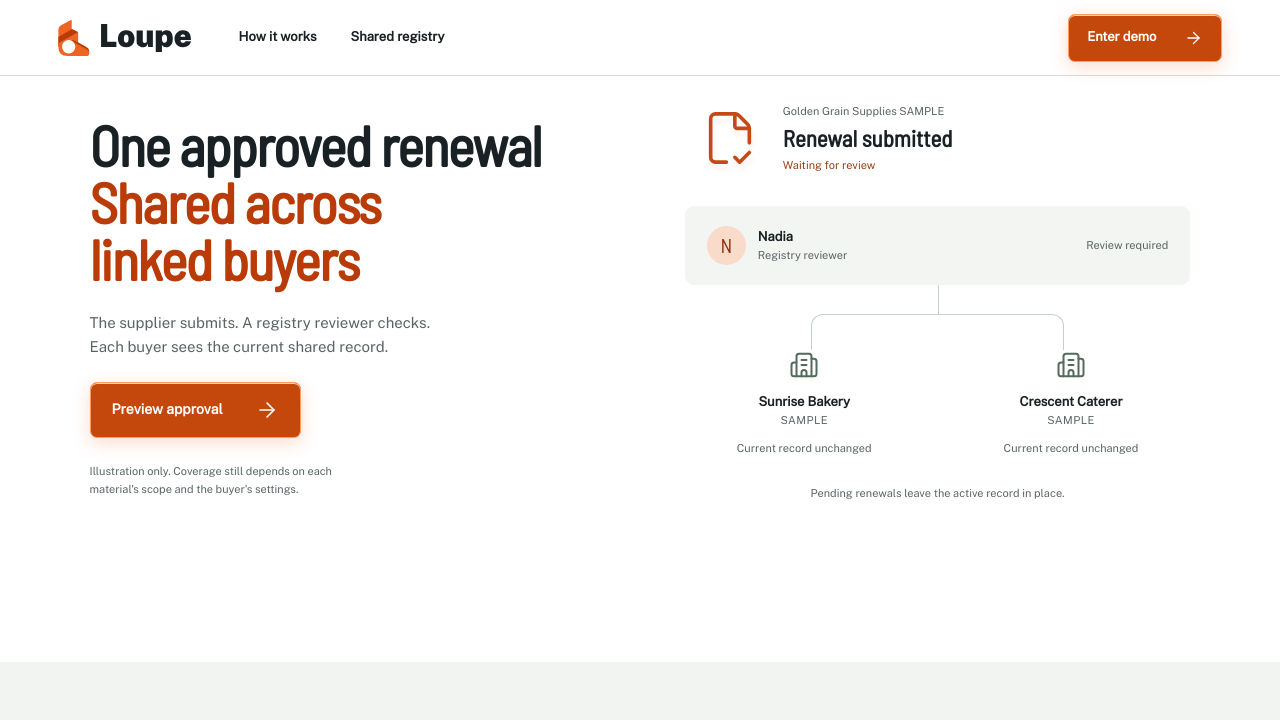
Test case: keeps registry approval illustrative and links entry to the actual workspace picker
The width and height of the screenshot is (1280, 720).
(page scrolled)
What coordinates should you click on to do the following:
click the button "Preview approval"
I would click on:
 (195, 410)
Its box is [90,382,301,438].
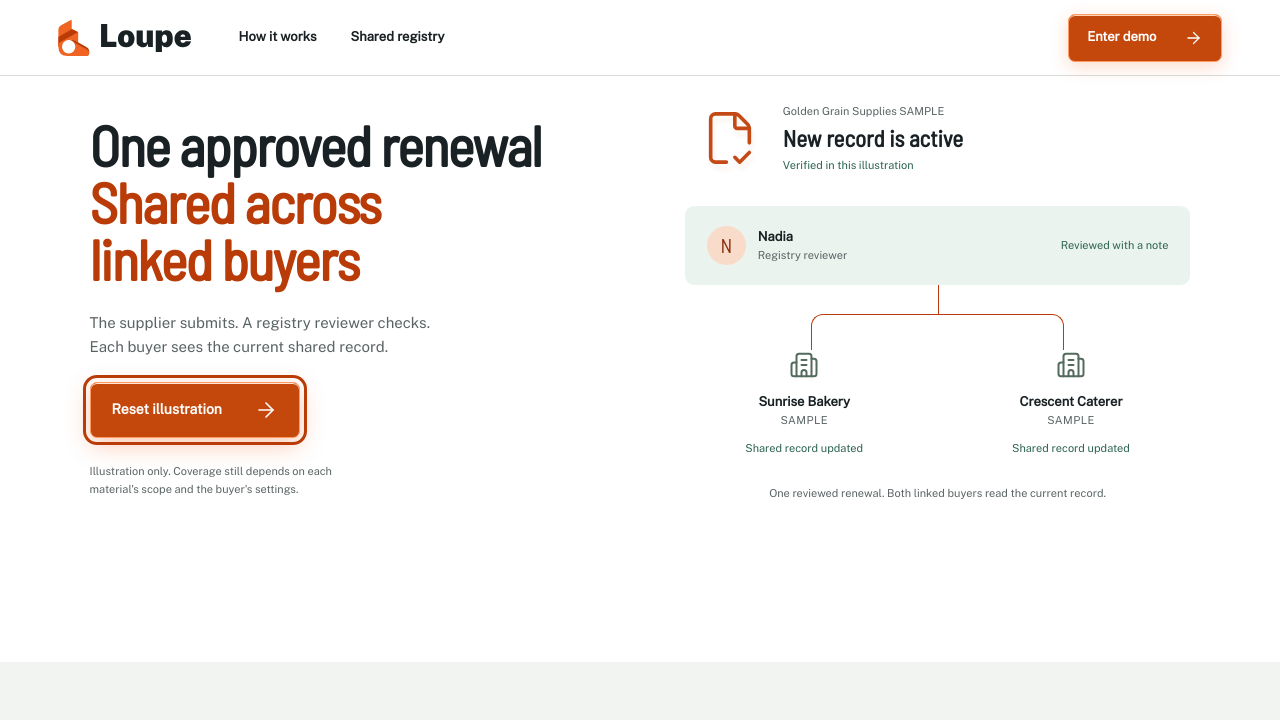
Expected: the text "New record is active" is shown, [783,126,963,151]
